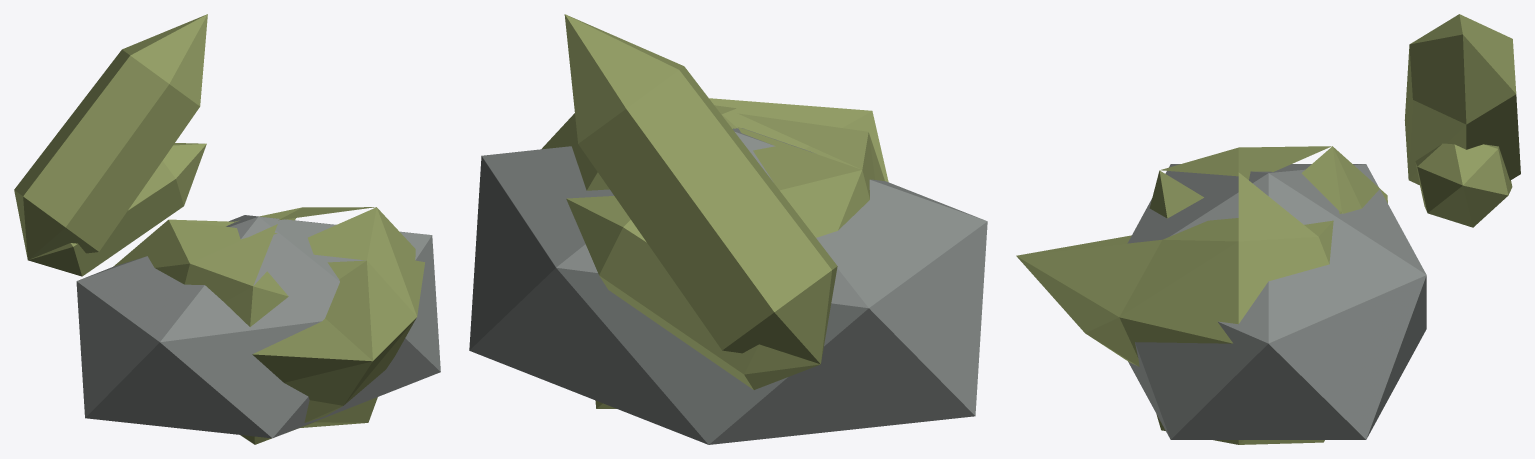
The model's file is v2_uranium_exposure.glb.
The picture shows the model from 3 angles, left to right: view 1: azimuth 30°, elevation 25°; view 2: azimuth 150°, elevation 25°; view 3: azimuth 270°, elevation 25°; orthographic projection. The views are drawn at different scales.
Visible parts, largest first — view 1: Icosphere; view 2: Icosphere; view 3: Icosphere.
Boxes of the visible parts, left/top/right/bottom form: Icosphere: left=14, top=14, right=440, bottom=444; Icosphere: left=469, top=14, right=987, bottom=444; Icosphere: left=1016, top=14, right=1520, bottom=444.
Bounding box in the file's own units: 1.13 × 1.11 × 1.22.
